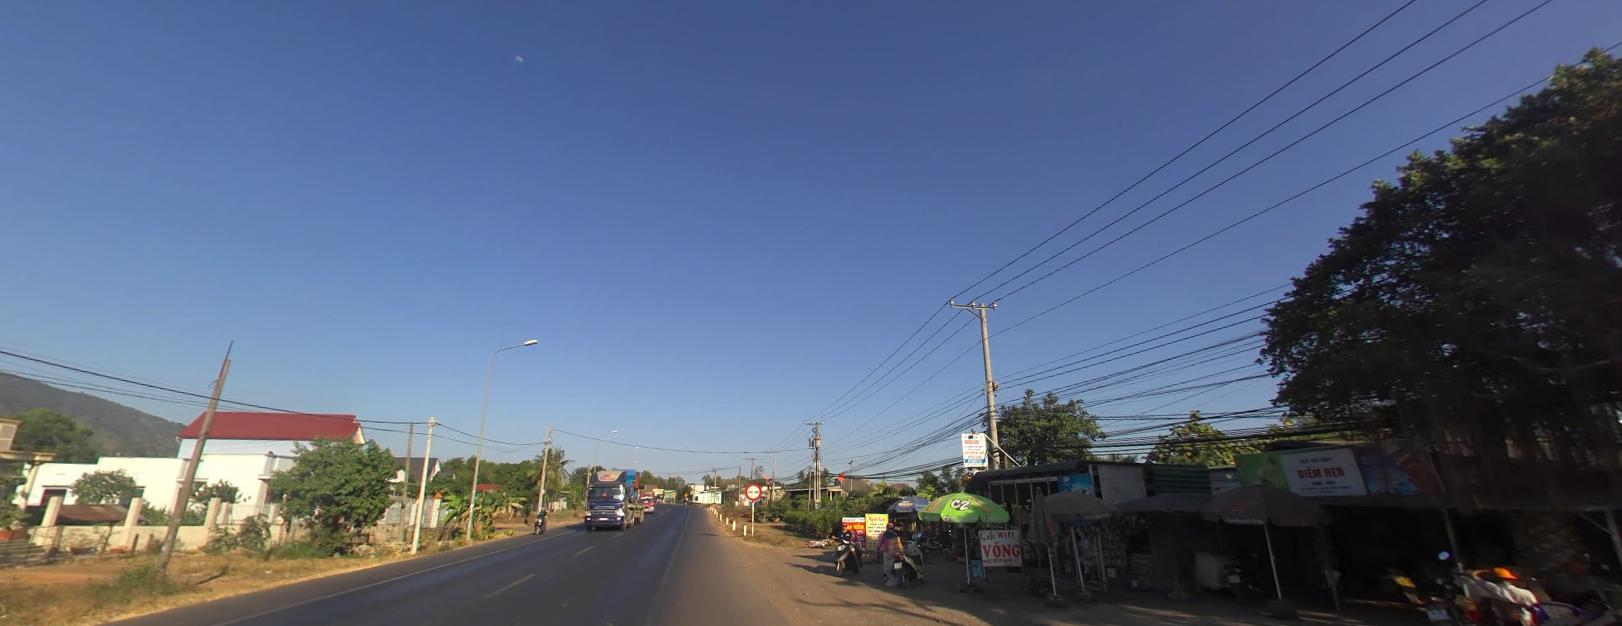Cam con lai: (744, 482, 761, 499)
